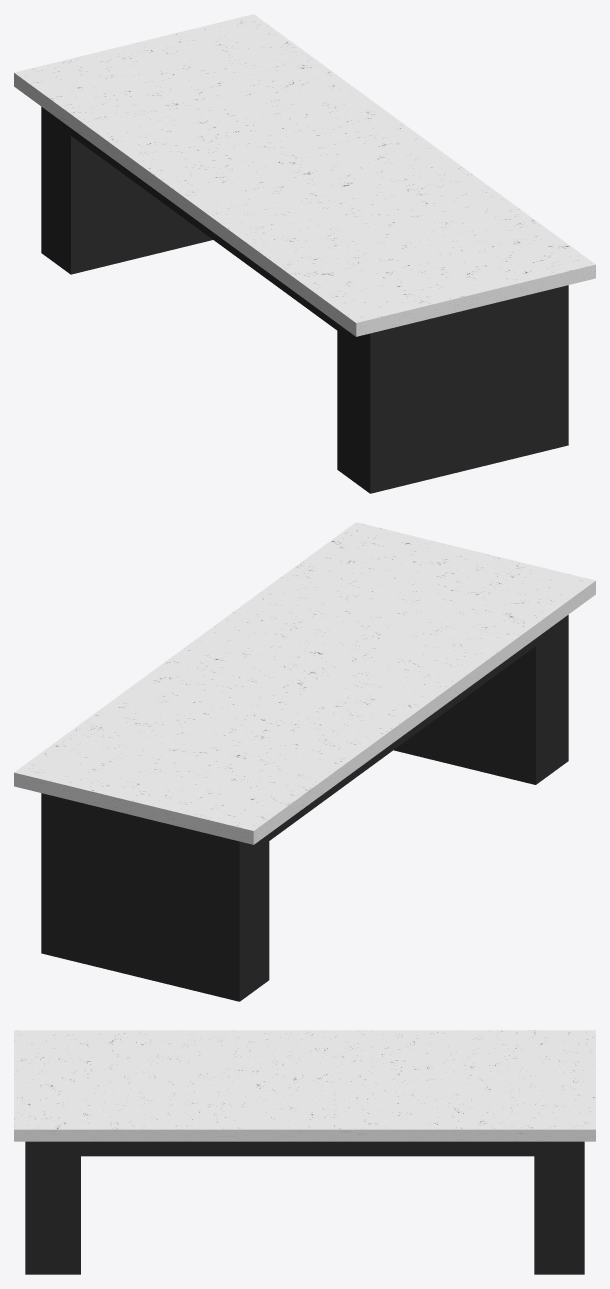
The model's file is space table 2.1 .fbx.
The picture shows the model from 3 angles, top to bottom: view 1: azimuth 30°, elevation 25°; view 2: azimuth 150°, elevation 25°; view 3: azimuth 270°, elevation 25°; orthographic projection. The views are drawn at different scales.
Parts seen in each view (by area): view 1: Cube.065; view 2: Cube.065; view 3: Cube.065.
Boxes of the visible parts, x1,y1,x2,y2 form: Cube.065: [14, 14, 595, 493]; Cube.065: [14, 522, 595, 1001]; Cube.065: [14, 1030, 595, 1274].
Bounding box in the file's own units: 3.63 × 2.61 × 8.96.
